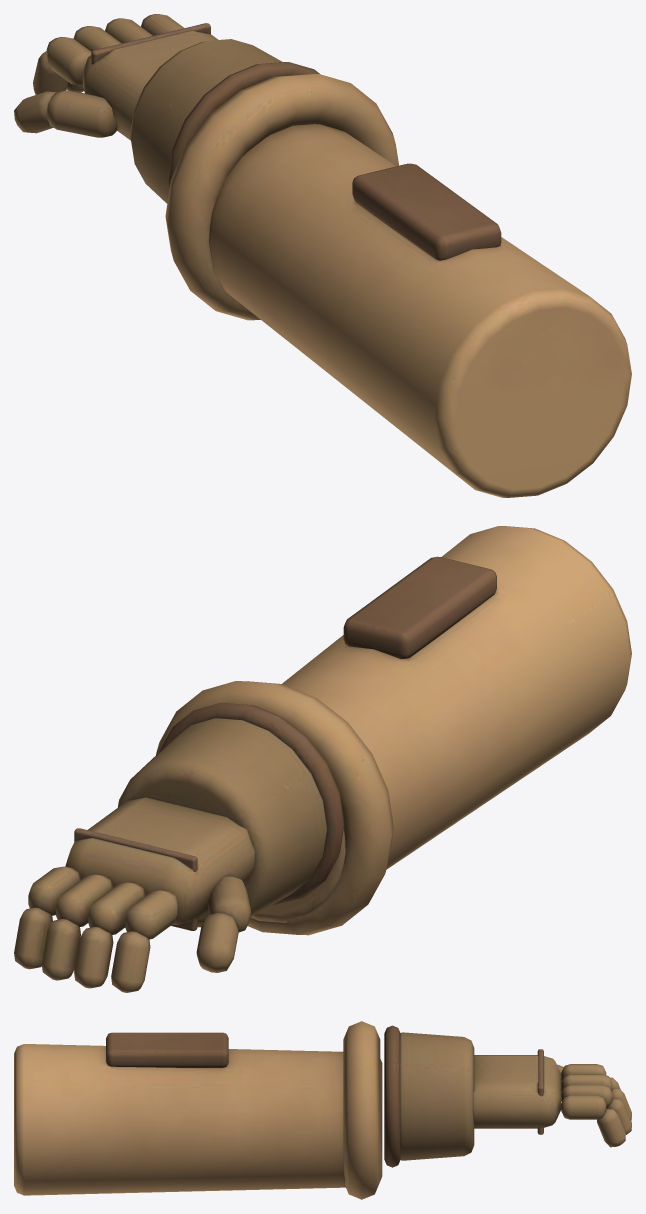
File: arm.glb
3 renders of one model, top to bottom at view 1: azimuth 30°, elevation 25°; view 2: azimuth 150°, elevation 25°; view 3: azimuth 270°, elevation 25°, orthographic. The views are drawn at different scales.
Visible parts, largest first — view 1: Arm; view 2: Arm; view 3: Arm.
Boxes of the visible parts, x1,y1,x2,y2 form: Arm: (14,14,631,497); Arm: (14,526,631,992); Arm: (14,1021,631,1199).
Size of the model in its own units: 0.176 by 0.176 by 0.6041.
Materials: 3 (3 with a texture image).
